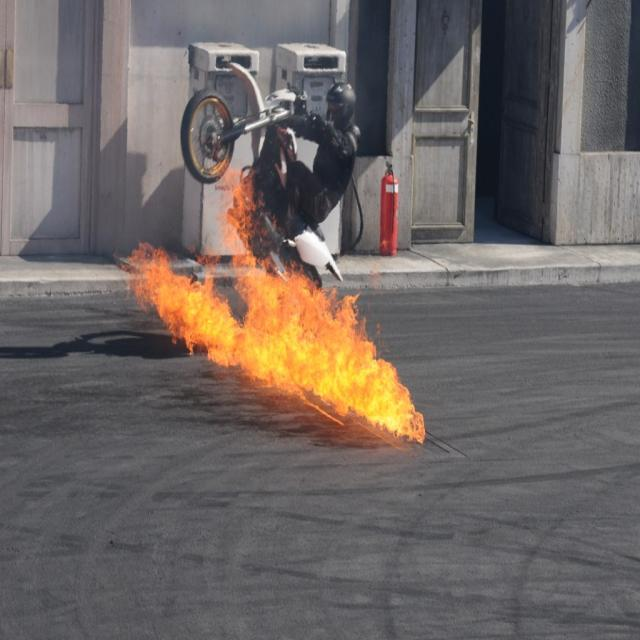fire: (129, 244, 424, 443), (217, 163, 263, 245)
